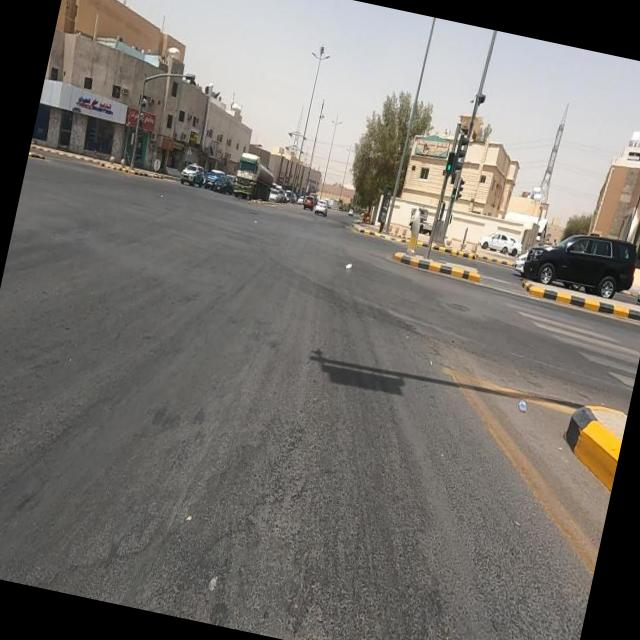debris: (386, 109, 472, 193), (492, 353, 549, 447), (318, 230, 374, 300)
